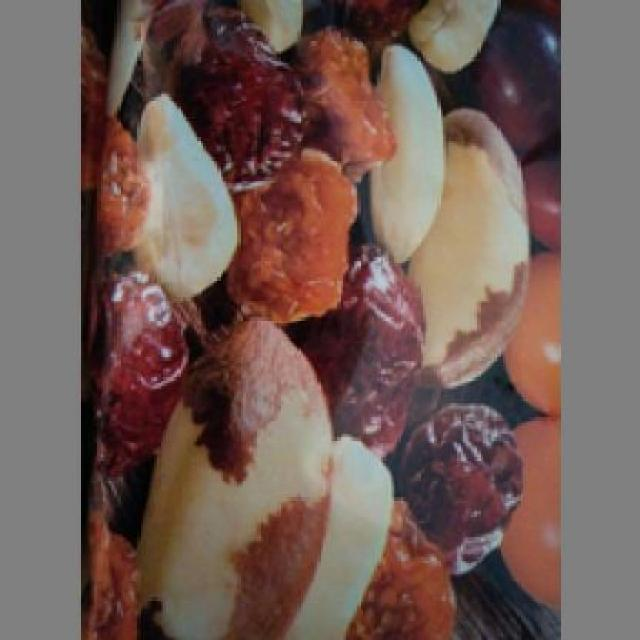Nuts: (77, 0, 557, 637)
